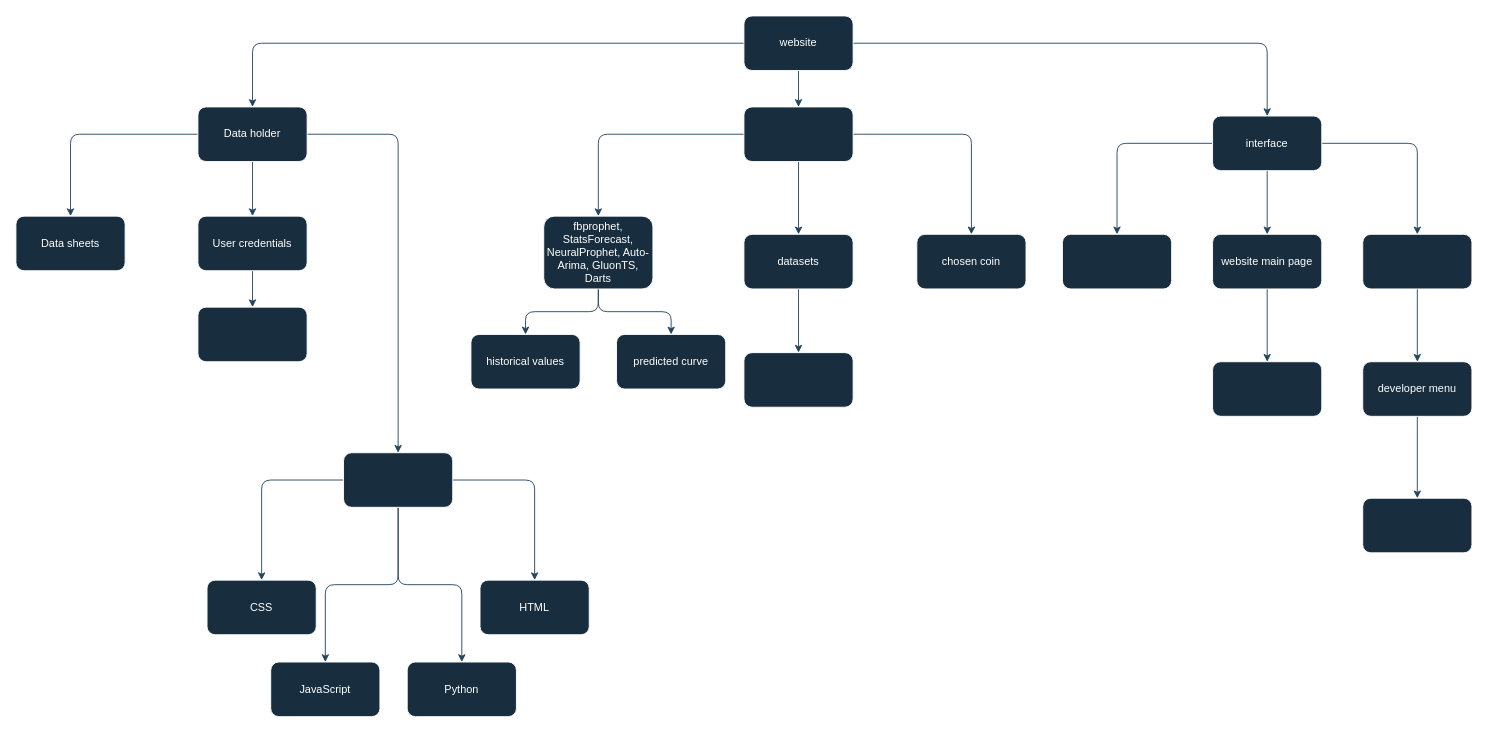
The diagram is 1488 pixels wide and 733 high, and some of its shapes have lost their labels. Here are the shapes that lost their labels. From the top down, the box of each, then its label:
(743, 106, 853, 162): Prediction AI
(1062, 233, 1172, 289): coin info pages
(1362, 233, 1472, 289): Log in screen
(197, 306, 307, 362): SQL database
(743, 352, 853, 407): Pandas library
(1212, 361, 1322, 416): brief coin data + hyperlinks
(343, 452, 453, 507): server scripts
(1362, 497, 1472, 553): Database editor
